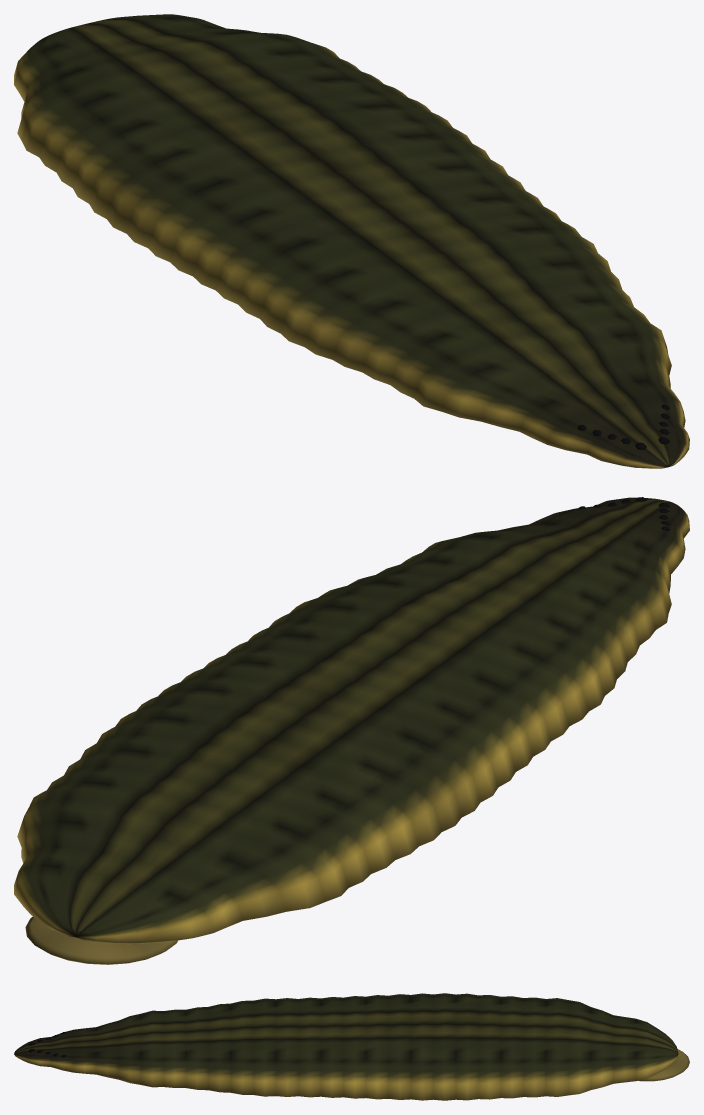
Rendered from WhitmaniaLeech.fbx.
3 renders of one model, top to bottom at view 1: azimuth 30°, elevation 25°; view 2: azimuth 150°, elevation 25°; view 3: azimuth 270°, elevation 25°, orthographic. The views are drawn at different scales.
Parts seen in each view (by area): view 1: WhitmaniaLeech; view 2: WhitmaniaLeech; view 3: WhitmaniaLeech.
Part boxes in pixels (x1,y1,x2,y2): WhitmaniaLeech: (14, 14, 689, 468); WhitmaniaLeech: (14, 497, 689, 964); WhitmaniaLeech: (14, 993, 689, 1100).
Bounding box in the file's own units: 0.6 × 0.132 × 1.83.
